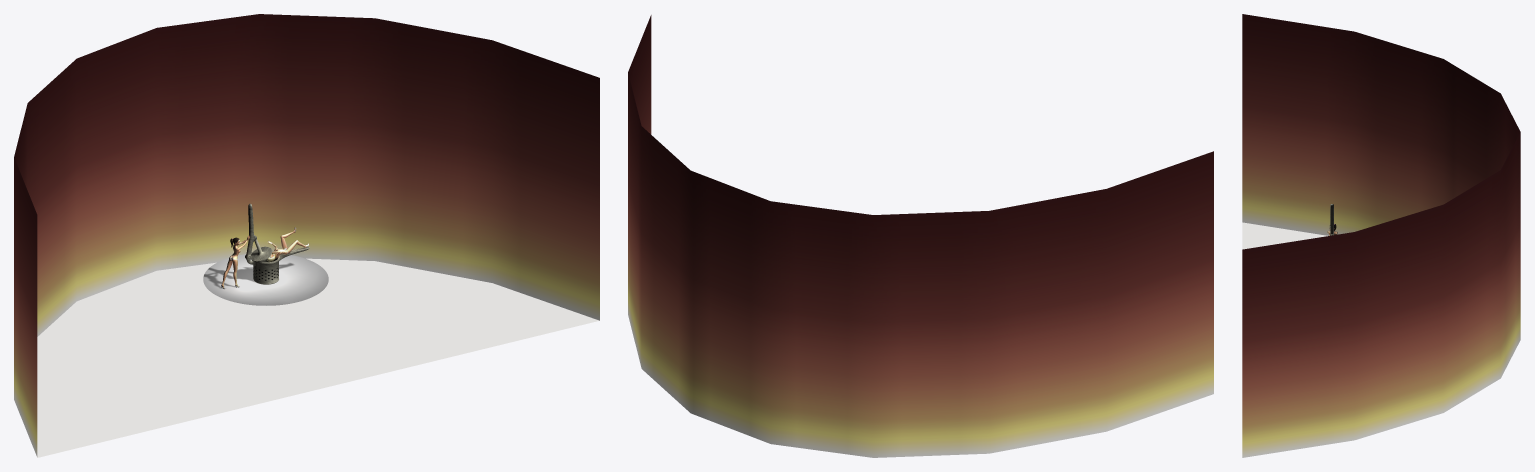
The model's file is garlic2.fbx.
3 renders of one model, left to right at view 1: azimuth 30°, elevation 25°; view 2: azimuth 150°, elevation 25°; view 3: azimuth 270°, elevation 25°, orthographic. The views are drawn at different scales.
Visible parts, largest first — view 1: back, mark, garlic; view 2: back; view 3: back.
Boxes of the visible parts, bbox=[...] form: back: bbox=[14, 14, 599, 457]; mark: bbox=[203, 254, 328, 305]; garlic: bbox=[245, 203, 309, 284]; back: bbox=[628, 15, 1213, 457]; back: bbox=[1242, 14, 1520, 457].
Size of the model in its own units: 2120 by 875 by 1058.
5 materials, 5 textured.
